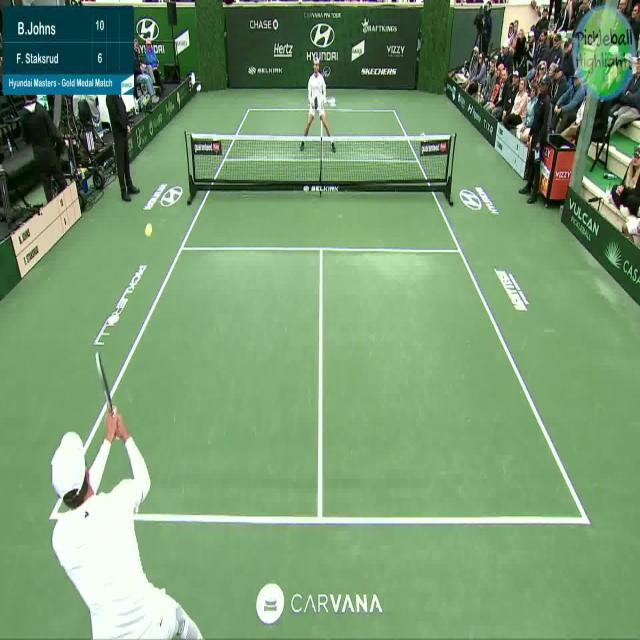ball: (144, 221, 153, 235)
